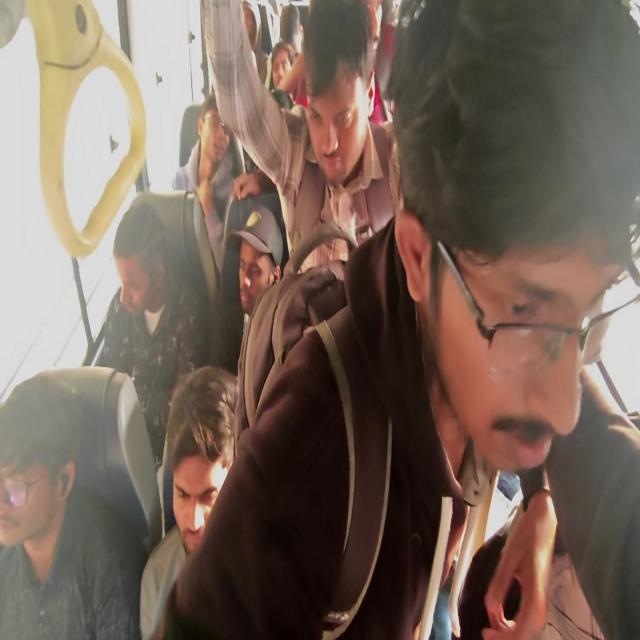person: (410, 16, 632, 487), (165, 379, 236, 547), (0, 370, 65, 542), (304, 6, 369, 177), (116, 202, 170, 320), (240, 208, 279, 314), (198, 103, 234, 170), (270, 41, 293, 93), (279, 2, 304, 48), (235, 0, 262, 39)
